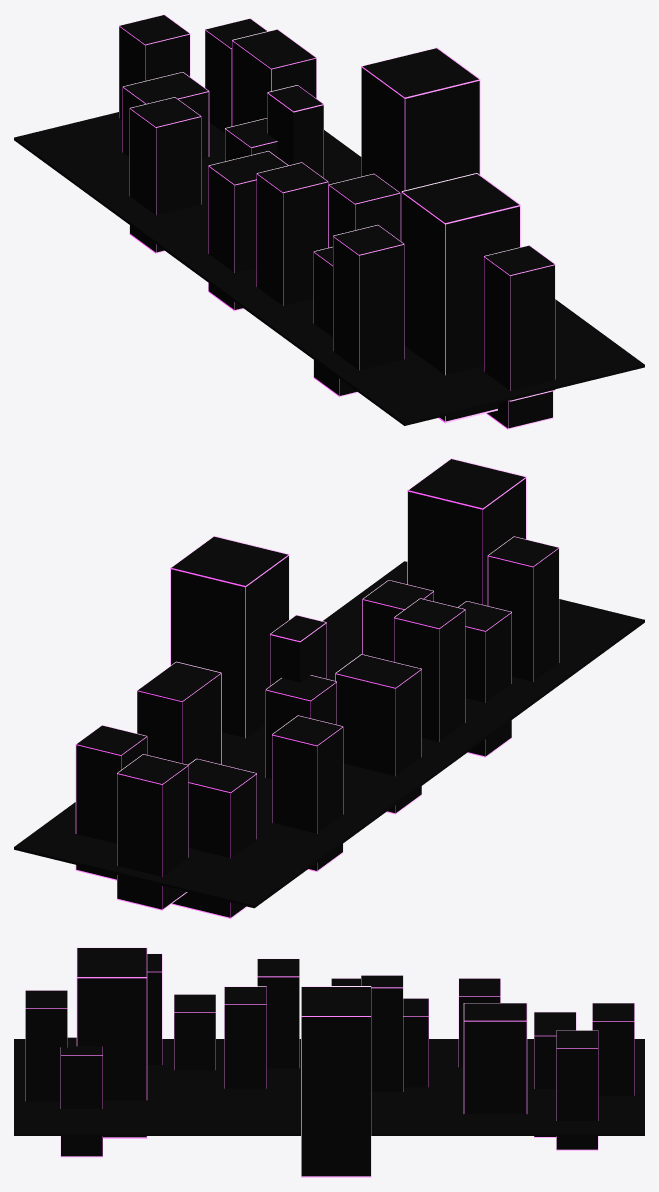
Rendered from decor3Dv1.fbx.
3 views of the same model, one above another, from view 1: azimuth 30°, elevation 25°; view 2: azimuth 150°, elevation 25°; view 3: azimuth 270°, elevation 25° (orthographic). The views are drawn at different scales.
Visible parts, largest first — view 1: Cube, Cube.003, Cube.007, Cube.013, Cube.001, Cube.009, Cube.016, Cube.008, Cube.010, Cube.011, Cube.005, Cube.002 (+5 smaller); view 2: Cube, Cube.007, Cube.003, Cube.011, Cube.008, Cube.001, Cube.016, Cube.009, Cube.010, Cube.012, Cube.015, Cube.006 (+3 smaller); view 3: Cube, Cube.007, Cube.003, Cube.010, Cube.015, Cube.013, Cube.002, Cube.009, Cube.005, Cube.004, Cube.011, Cube.006 (+4 smaller).
Boxes of the visible parts, x1=… form: Cube: x1=14, y1=112, x2=644, y2=425; Cube.003: x1=401, y1=173, x2=520, y2=423; Cube.007: x1=361, y1=47, x2=480, y2=241; Cube.013: x1=484, y1=245, x2=555, y2=401; Cube.001: x1=333, y1=225, x2=404, y2=370; Cube.009: x1=256, y1=162, x2=328, y2=305; Cube.016: x1=129, y1=97, x2=201, y2=253; Cube.008: x1=208, y1=151, x2=288, y2=311; Cube.010: x1=232, y1=29, x2=316, y2=126; Cube.011: x1=119, y1=14, x2=190, y2=120; Cube.005: x1=267, y1=85, x2=323, y2=177; Cube.002: x1=328, y1=173, x2=400, y2=247; Cube: x1=14, y1=561, x2=644, y2=908; Cube.007: x1=170, y1=535, x2=289, y2=738; Cube.003: x1=407, y1=458, x2=526, y2=607; Cube.011: x1=117, y1=754, x2=188, y2=910; Cube.008: x1=335, y1=654, x2=421, y2=814; Cube.001: x1=487, y1=536, x2=559, y2=681; Cube.016: x1=272, y1=715, x2=343, y2=871; Cube.009: x1=394, y1=598, x2=465, y2=741; Cube.010: x1=137, y1=661, x2=221, y2=764; Cube.012: x1=171, y1=758, x2=256, y2=918; Cube.015: x1=75, y1=725, x2=147, y2=880; Cube.006: x1=458, y1=601, x2=511, y2=757; Cube: x1=14, y1=1039, x2=644, y2=1135; Cube.007: x1=301, y1=986, x2=371, y2=1177; Cube.003: x1=76, y1=947, x2=147, y2=1138; Cube.010: x1=463, y1=1003, x2=527, y2=1113; Cube.015: x1=556, y1=1030, x2=598, y2=1150; Cube.013: x1=25, y1=990, x2=67, y2=1101; Cube.002: x1=224, y1=986, x2=266, y2=1088; Cube.009: x1=257, y1=958, x2=299, y2=1068; Cube.005: x1=361, y1=975, x2=403, y2=1091; Cube.004: x1=60, y1=1037, x2=102, y2=1157; Cube.011: x1=592, y1=1003, x2=634, y2=1095; Cube.006: x1=174, y1=994, x2=215, y2=1070.
Size of the model in its own units: 3374 by 2707 by 9000.
